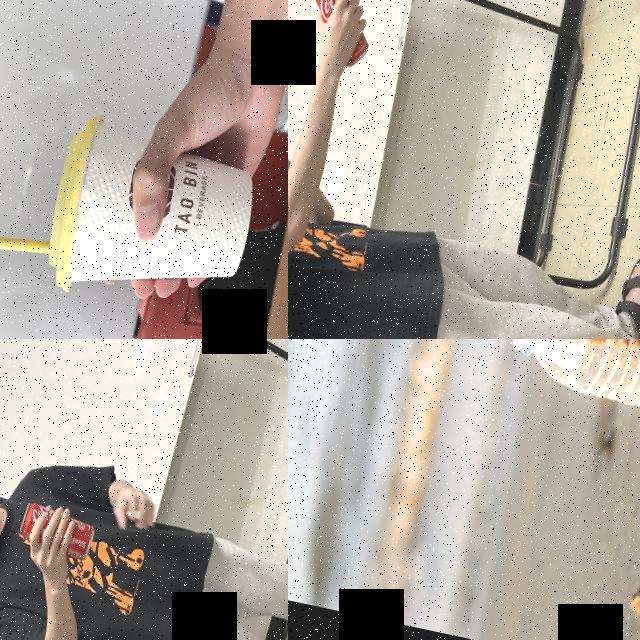bottle: (507, 339, 640, 425)
can: (298, 0, 384, 71), (13, 498, 99, 563)
cup: (33, 98, 271, 332)
